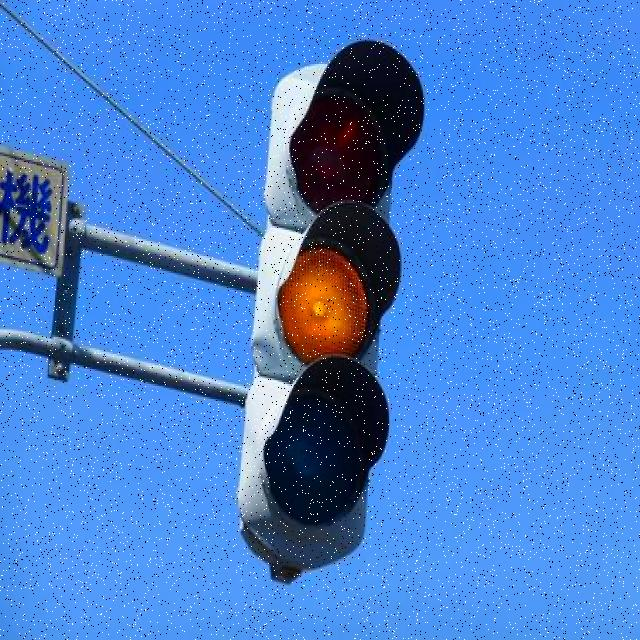Yellow-traffic-light: (282, 255, 397, 343)
